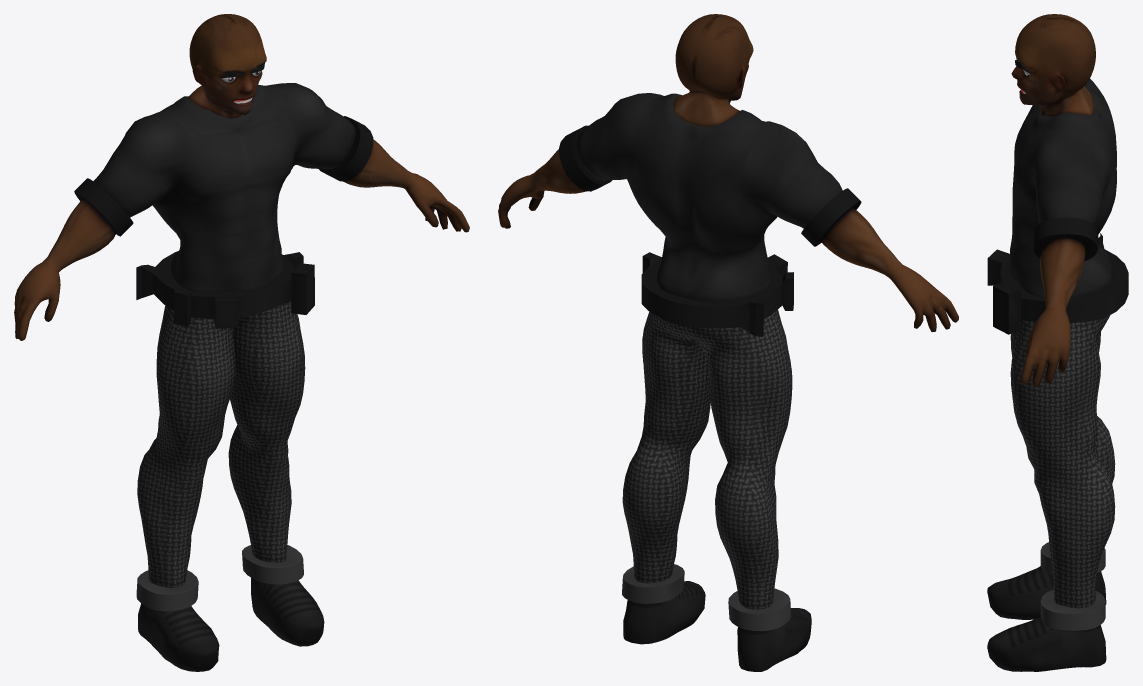
The model's file is BruteCop.fbx.
3 renders of one model, left to right at view 1: azimuth 30°, elevation 25°; view 2: azimuth 150°, elevation 25°; view 3: azimuth 270°, elevation 25°, orthographic.
Parts seen in each view (by area): view 1: pants1, shirt1, arm, Shoes1, belt, head1, pantsCuffs, shirtCuffs; view 2: pants1, shirt1, arm, head1, Shoes1, belt, pantsCuffs, shirtCuffs; view 3: pants1, shirt1, Shoes1, head1, arm, belt, pantsCuffs, shirtCuffs.
Part boxes in pixels (bbox=[...]): pants1: bbox=[137, 301, 305, 588]; shirt1: bbox=[93, 83, 355, 292]; arm: bbox=[14, 139, 469, 340]; Shoes1: bbox=[138, 577, 324, 671]; belt: bbox=[136, 251, 314, 328]; head1: bbox=[187, 14, 266, 118]; pantsCuffs: bbox=[136, 545, 303, 611]; shirtCuffs: bbox=[74, 116, 373, 236]; pants1: bbox=[622, 309, 792, 609]; shirt1: bbox=[576, 93, 842, 302]; arm: bbox=[498, 149, 958, 331]; head1: bbox=[673, 14, 753, 126]; Shoes1: bbox=[623, 581, 811, 671]; belt: bbox=[641, 252, 793, 336]; pantsCuffs: bbox=[622, 564, 791, 631]; shirtCuffs: bbox=[559, 125, 861, 246]; pants1: bbox=[1010, 315, 1115, 608]; shirt1: bbox=[1009, 79, 1116, 297]; Shoes1: bbox=[987, 566, 1106, 671]; head1: bbox=[1011, 14, 1095, 116]; arm: bbox=[1021, 237, 1085, 386]; belt: bbox=[987, 233, 1128, 334]; pantsCuffs: bbox=[1040, 542, 1105, 630]; shirtCuffs: bbox=[1033, 218, 1098, 260].
Size of the model in its own units: 183 by 240 by 49.61.
